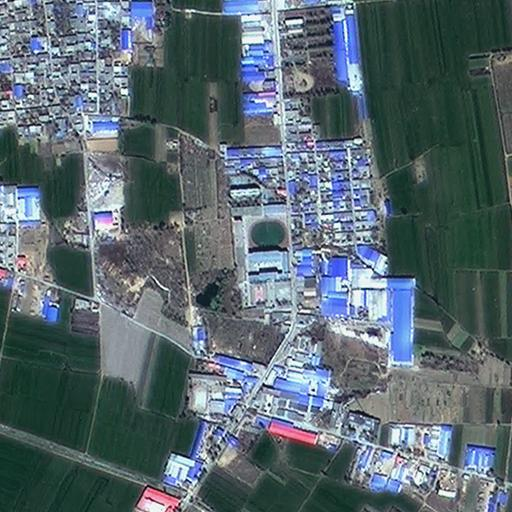school: (234, 202, 294, 318)
